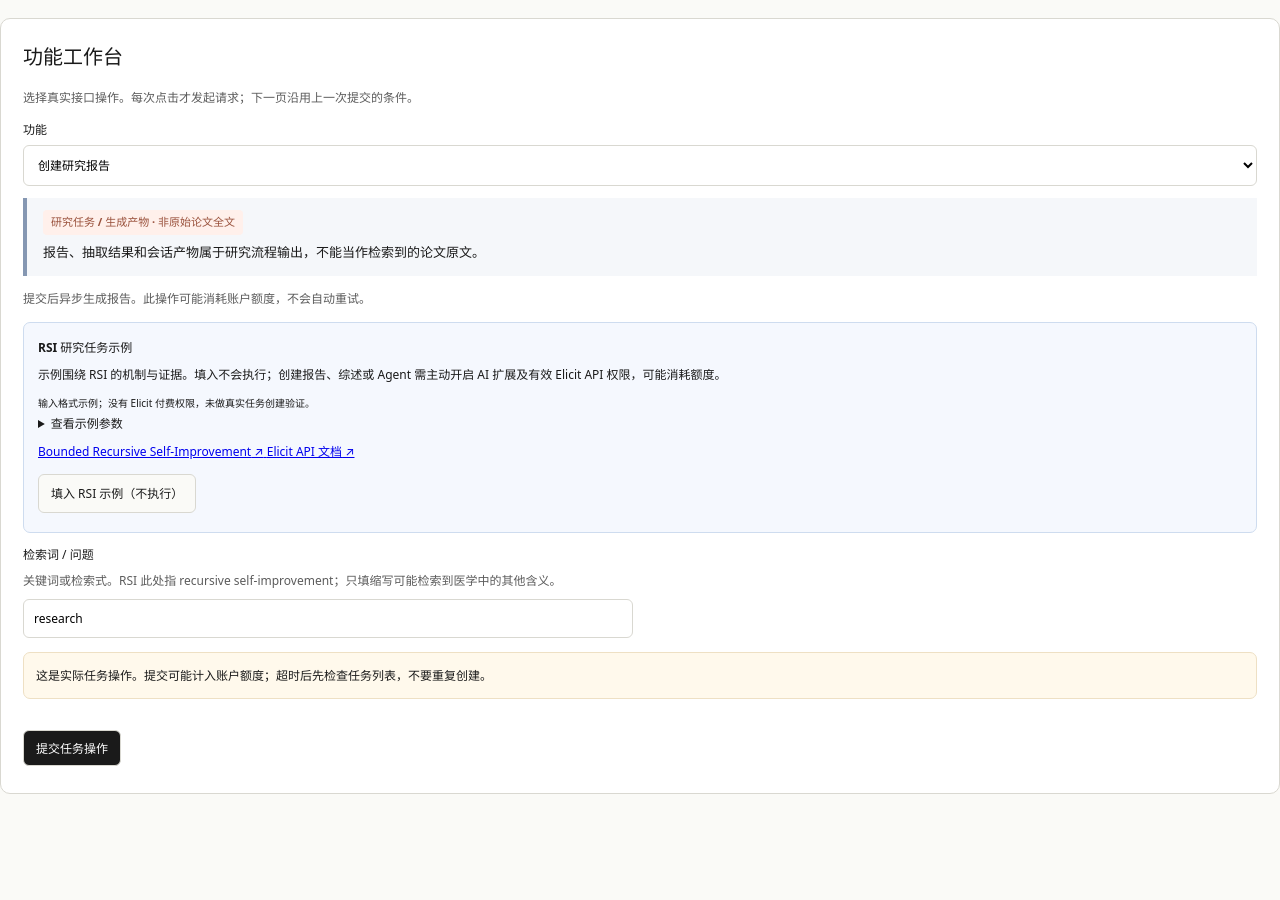
Scenario: never starts an Elicit task merely by selecting an operation
Click the button "提交任务操作" at (72, 748), box [23, 730, 121, 766]
(page scrolled)
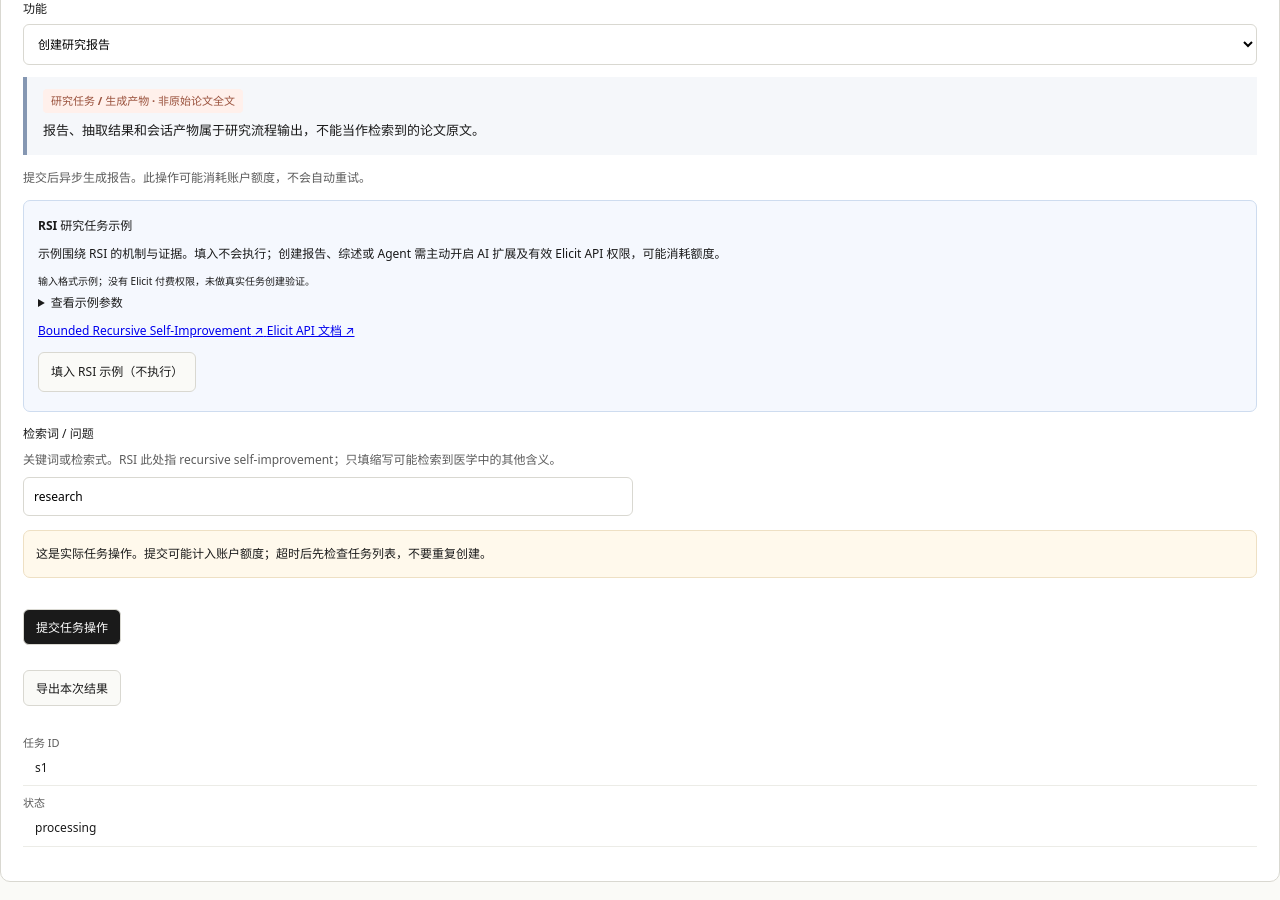
expect the text "processing" is shown: met, box [35, 819, 96, 836]
